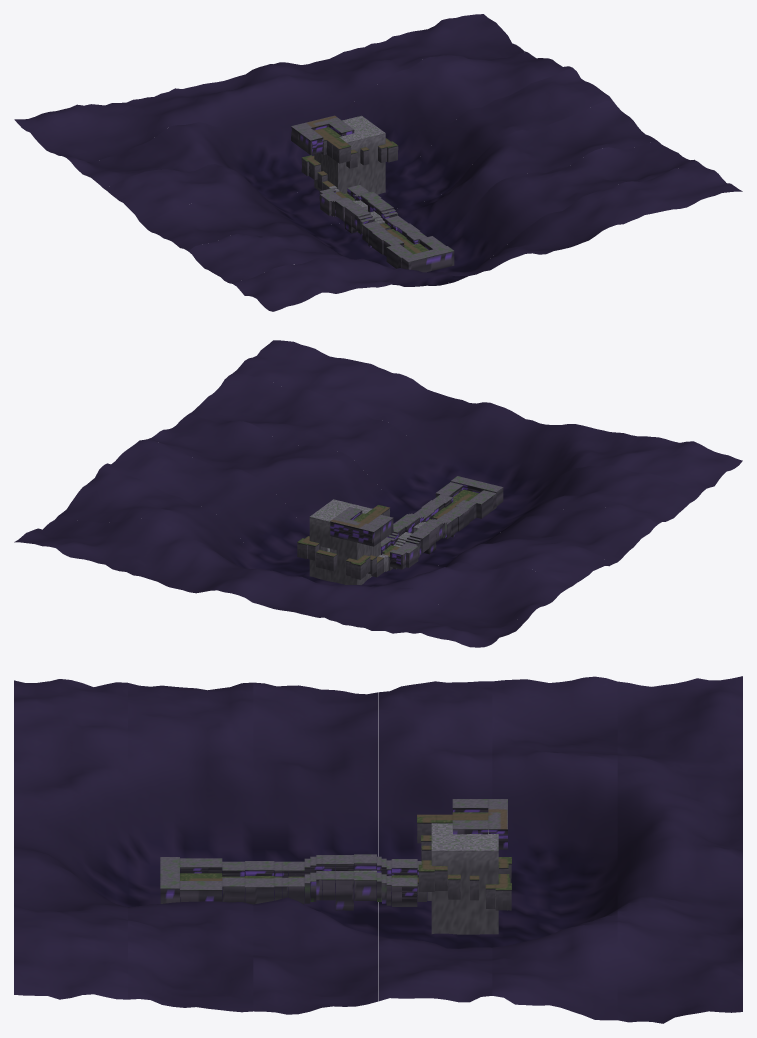
Rendered from bell_tower_terrain.glb.
3 views of the same model, one above another, from view 1: azimuth 30°, elevation 25°; view 2: azimuth 150°, elevation 25°; view 3: azimuth 270°, elevation 25° (orthographic). The views are drawn at different scales.
Parts seen in each view (by area): view 1: backdrop_5, backdrop_4, backdrop_3, backdrop_2, backdrop_1, backdrop_0, terrain_F, terrain_A, terrain_C, terrain_B, terrain_J, terrain_H (+2 smaller); view 2: backdrop_0, backdrop_1, backdrop_5, backdrop_2, backdrop_3, backdrop_4, terrain_F, terrain_J, terrain_C, terrain_A, terrain_B, terrain_D; view 3: backdrop_5, backdrop_4, backdrop_1, backdrop_0, backdrop_2, backdrop_3, terrain_F, terrain_C, terrain_B, terrain_A, terrain_J, terrain_G (+3 smaller).
Part boxes in pixels (x1,y1,x2,y2): backdrop_5: [14, 14, 527, 161]; backdrop_4: [62, 52, 572, 198]; backdrop_3: [103, 68, 612, 228]; backdrop_2: [143, 101, 657, 259]; backdrop_1: [188, 141, 701, 286]; backdrop_0: [233, 165, 742, 311]; terrain_F: [301, 115, 385, 194]; terrain_A: [386, 236, 454, 272]; terrain_C: [331, 192, 397, 236]; terrain_B: [362, 216, 426, 256]; terrain_J: [291, 115, 354, 154]; terrain_H: [346, 141, 398, 168]; backdrop_0: [233, 340, 742, 494]; backdrop_1: [188, 373, 702, 535]; backdrop_5: [14, 515, 527, 647]; backdrop_2: [144, 414, 657, 566]; backdrop_3: [103, 439, 612, 586]; backdrop_4: [59, 465, 572, 624]; terrain_F: [307, 499, 380, 584]; terrain_J: [330, 507, 393, 546]; terrain_C: [385, 513, 447, 557]; terrain_A: [435, 476, 503, 518]; terrain_B: [414, 494, 476, 538]; terrain_D: [381, 538, 418, 570]; backdrop_5: [617, 676, 742, 1023]; backdrop_4: [492, 676, 617, 1020]; backdrop_1: [128, 682, 253, 1012]; backdrop_0: [14, 679, 127, 999]; backdrop_2: [253, 682, 378, 1014]; backdrop_3: [378, 681, 492, 1002]; terrain_F: [431, 823, 511, 934]; terrain_C: [304, 854, 391, 910]; terrain_B: [222, 861, 304, 904]; terrain_A: [160, 857, 222, 903]; terrain_J: [452, 799, 507, 849]; terrain_G: [434, 866, 511, 910].
Bounding box in the file's own units: 469 × 67 × 448.
